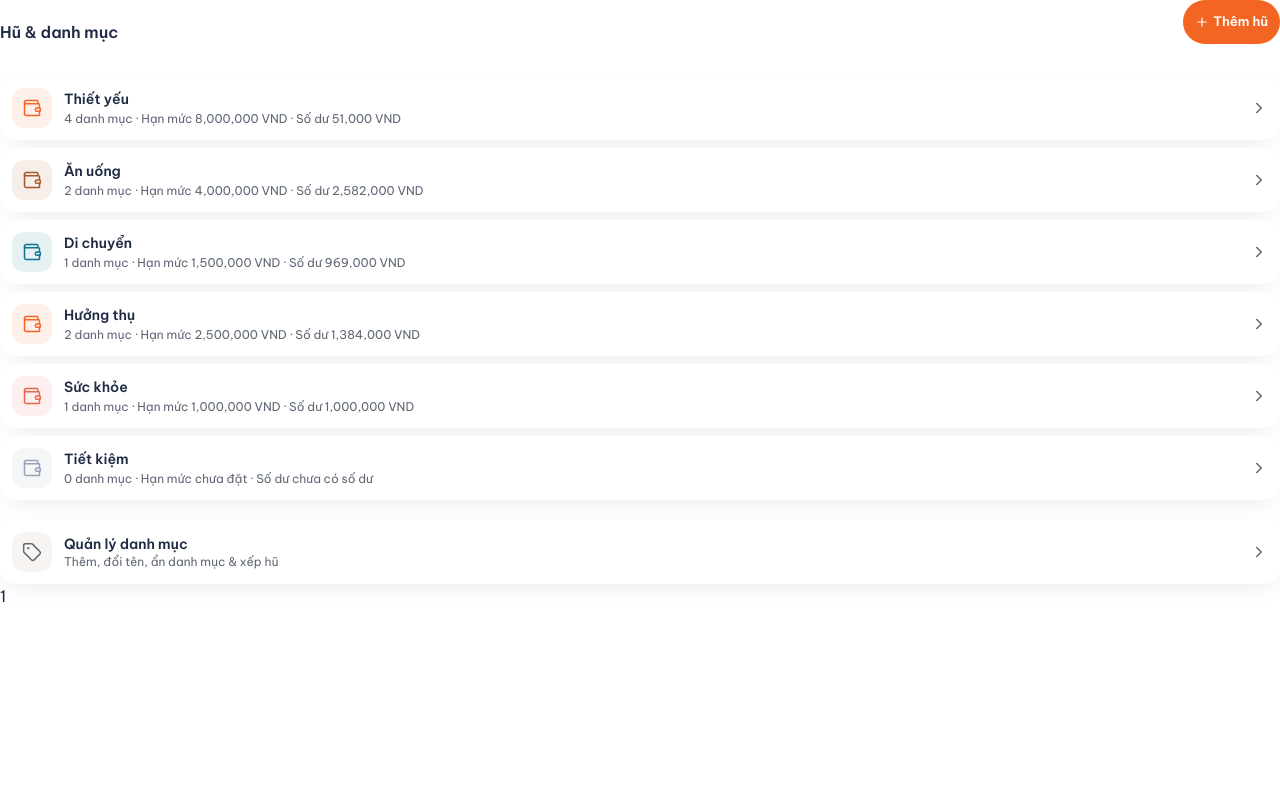
Test case: HuEditorSheet — delete with rebalance legs (U8) › shows no leg warning for a jar without legs
Click the text "Di chuyển".
click(98, 243)  # box [64,233,132,253]
(page scrolled)
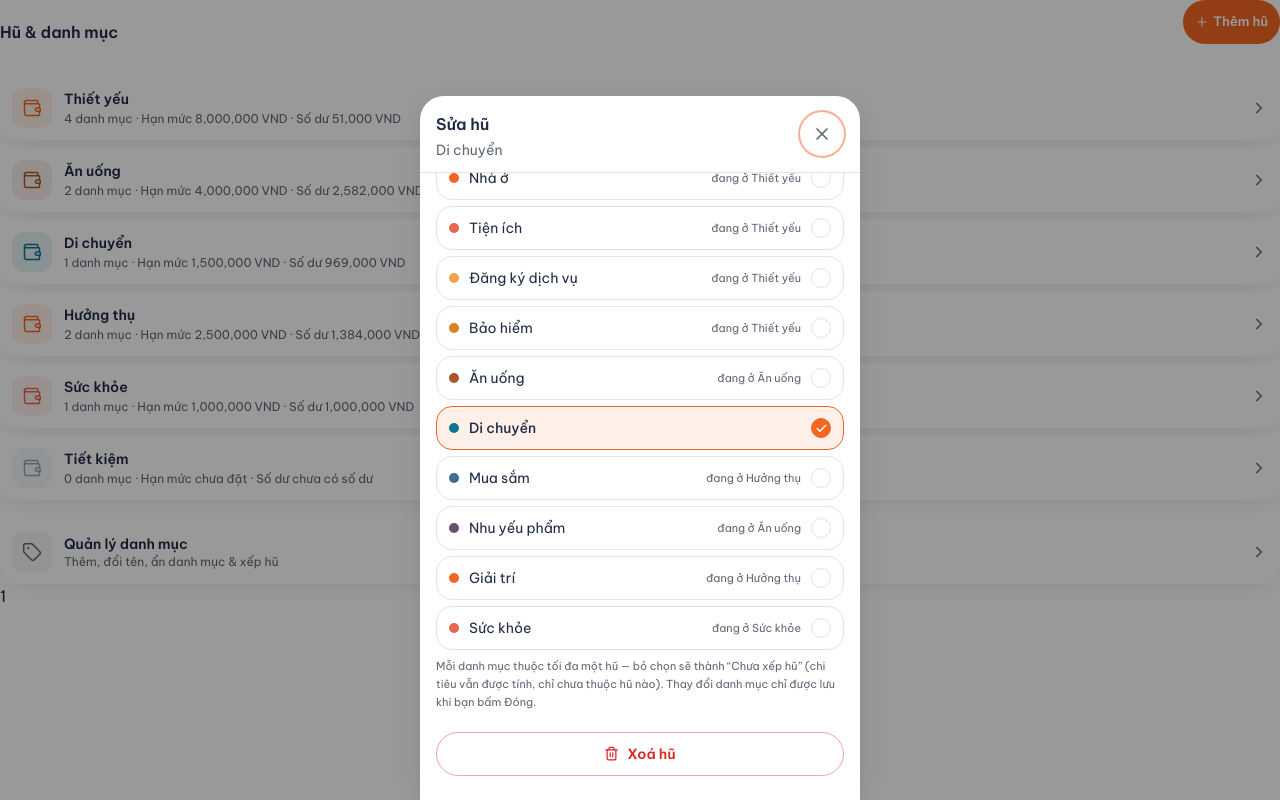
Expected: the text with test id "legs" reads "1", [0,586,6,606]
Click the button "Xoá hũ".
click(640, 754)  # box [436,732,844,776]
(page scrolled)
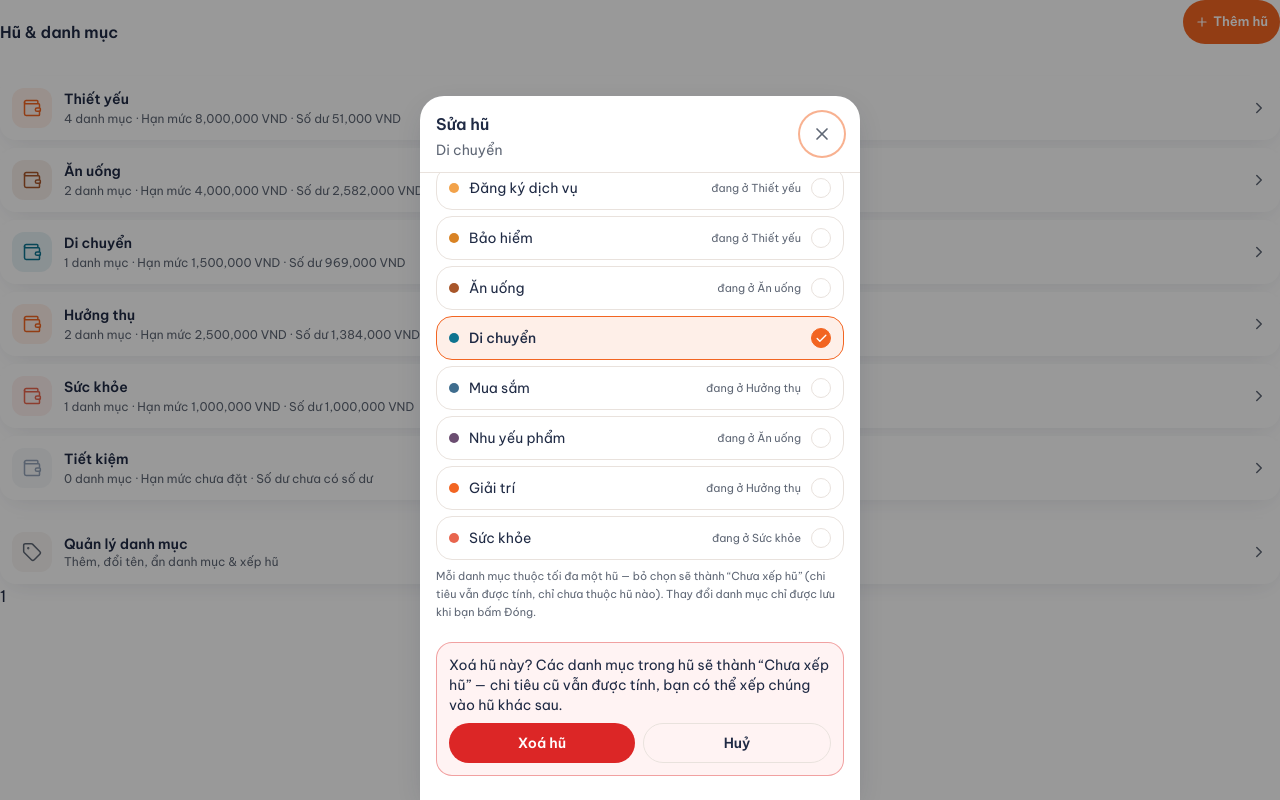
Now the text "Các danh mục trong hũ sẽ thành “Chưa xếp hũ”" is shown, box [449,656,829,714]
